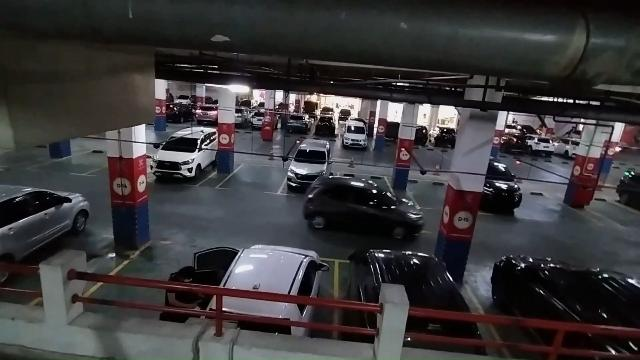empty: (219, 162, 283, 194), (407, 178, 447, 210), (283, 158, 311, 196)
occupied: (229, 241, 341, 294), (150, 134, 212, 188)
